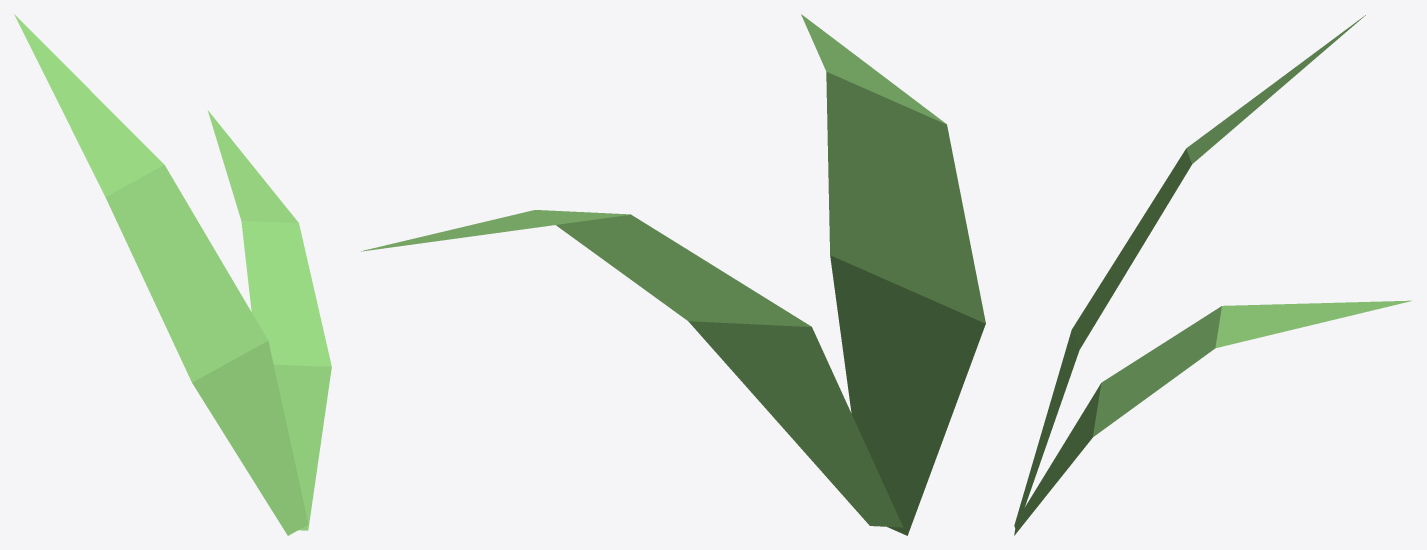
Rendered from Plant_e_TwoS_02.fbx.
The picture shows the model from 3 angles, left to right: view 1: azimuth 30°, elevation 25°; view 2: azimuth 150°, elevation 25°; view 3: azimuth 270°, elevation 25°; orthographic projection. The views are drawn at different scales.
Parts seen in each view (by area): view 1: Plant_e_TwoS_02; view 2: Plant_e_TwoS_02; view 3: Plant_e_TwoS_02.
Boxes of the visible parts, bbox=[...] form: Plant_e_TwoS_02: bbox=[14, 14, 331, 535]; Plant_e_TwoS_02: bbox=[361, 14, 985, 535]; Plant_e_TwoS_02: bbox=[1014, 15, 1411, 535].
Size of the model in its own units: 26.15 by 49.66 by 39.4.
